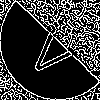V: (25, 25, 80, 81)
